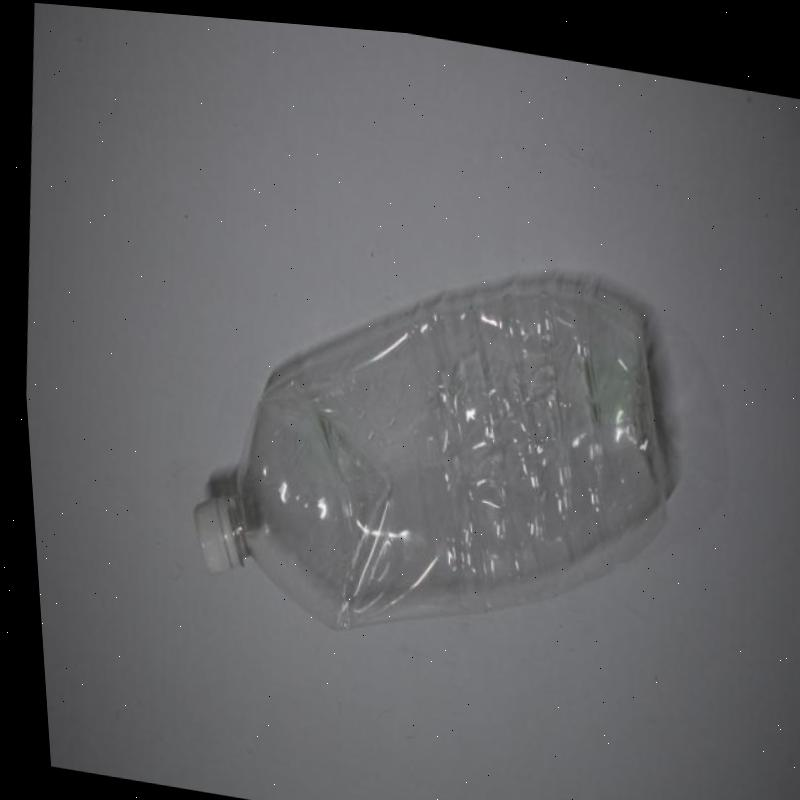botella: (159, 199, 693, 676)
